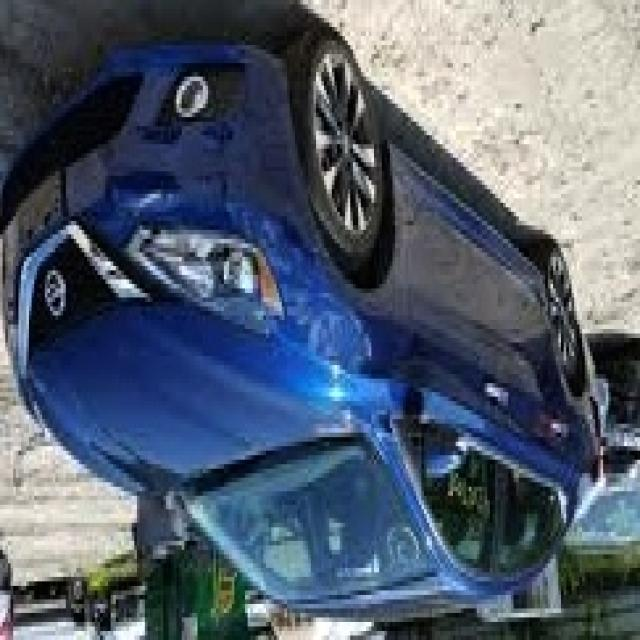blue: (0, 18, 604, 624)
